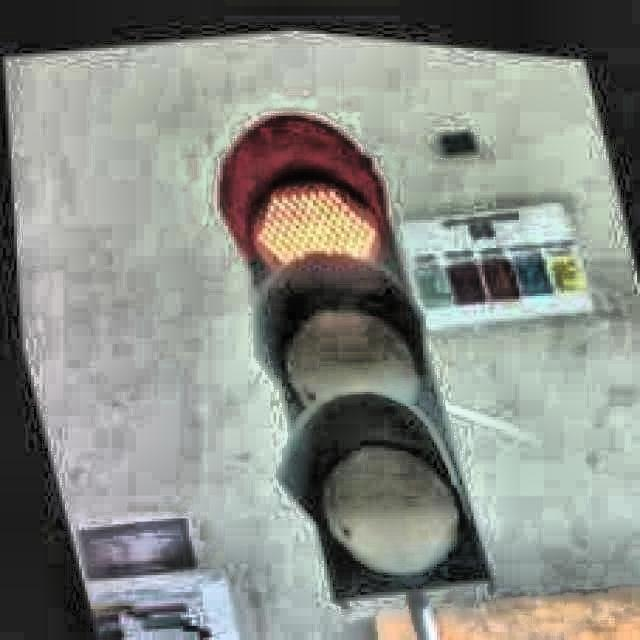red: (219, 118, 479, 600)
